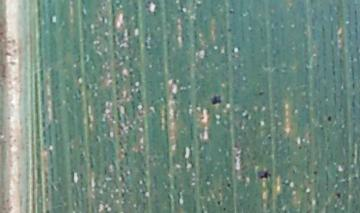tarspot: (256, 169, 272, 180), (209, 94, 223, 106), (170, 91, 178, 100), (334, 191, 342, 199), (256, 90, 265, 97), (227, 8, 236, 15), (225, 27, 233, 34), (171, 78, 178, 86), (83, 83, 91, 90), (195, 2, 203, 9), (326, 114, 332, 123), (296, 144, 303, 151), (122, 150, 128, 158), (125, 29, 131, 37), (114, 78, 120, 86), (128, 69, 134, 77), (350, 151, 356, 158), (225, 182, 231, 188), (312, 169, 318, 175), (128, 80, 133, 87), (215, 199, 220, 205), (266, 135, 272, 140), (222, 206, 226, 213)
